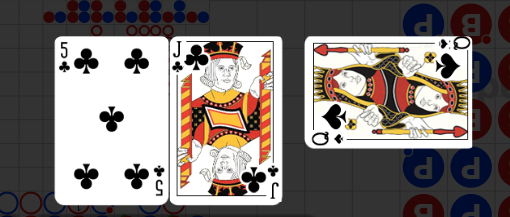5C: (152, 163, 165, 198)
JC: (266, 163, 282, 200)
QS: (310, 132, 346, 148)
